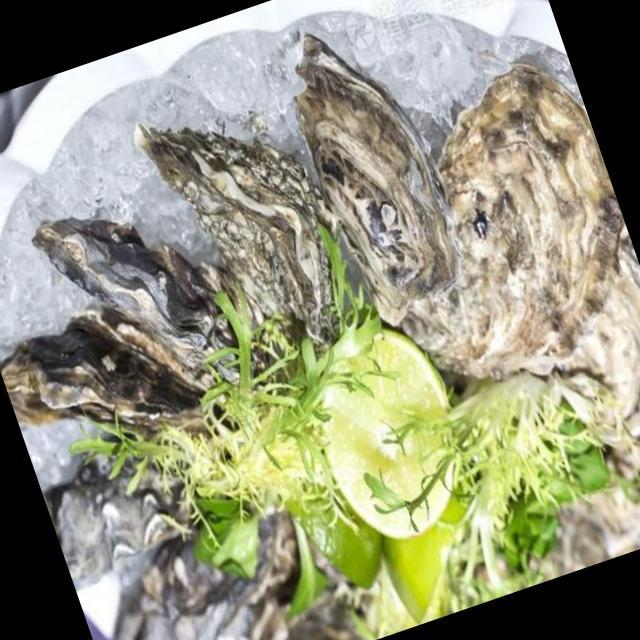Oyster- Indeterminate: (549, 210, 640, 455), (241, 567, 408, 640), (586, 429, 640, 562)
Oyster-Closed: (108, 51, 408, 394), (8, 159, 305, 413), (80, 487, 330, 640), (19, 416, 219, 601), (0, 301, 244, 439)
